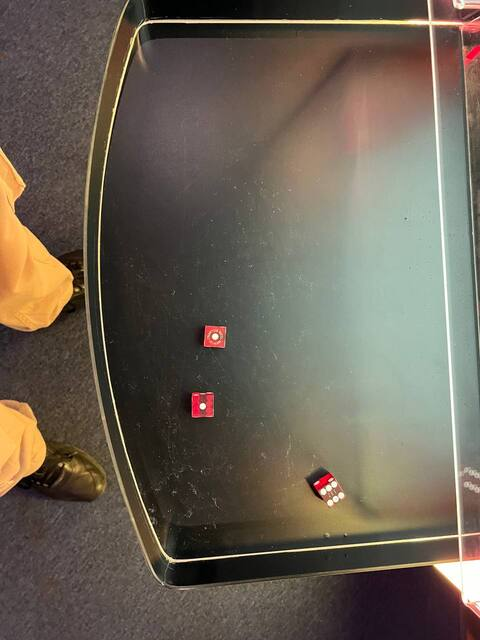one: (200, 323, 229, 353), (189, 392, 216, 419)
six: (314, 477, 351, 508)
